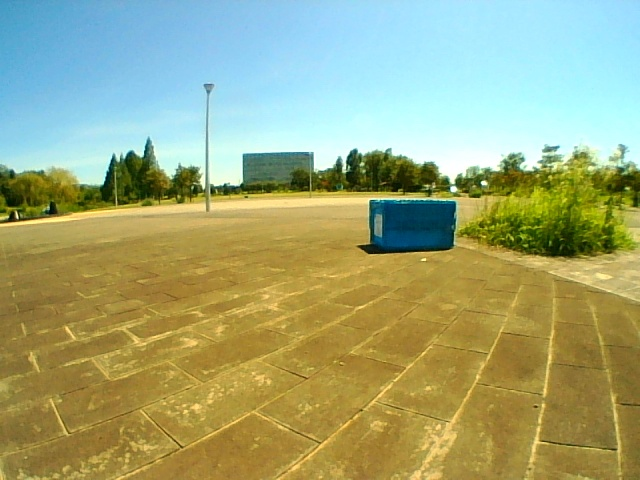blue_box: (371, 200, 455, 249)
tag: (374, 214, 381, 235)
